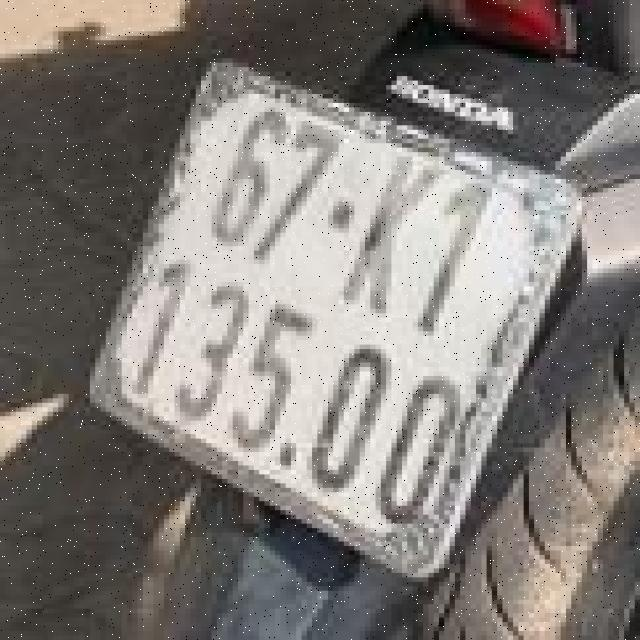0: (354, 358, 485, 541), (294, 328, 413, 501)
1: (400, 172, 510, 346), (113, 249, 218, 412)
3: (168, 272, 271, 431)
5: (212, 292, 337, 462)
6: (199, 100, 307, 254)
7: (248, 113, 358, 267)
K: (324, 145, 459, 320)
